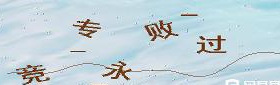chinese: (143, 20, 176, 43), (197, 37, 230, 60), (16, 60, 48, 83), (104, 58, 133, 83), (71, 17, 102, 39)
